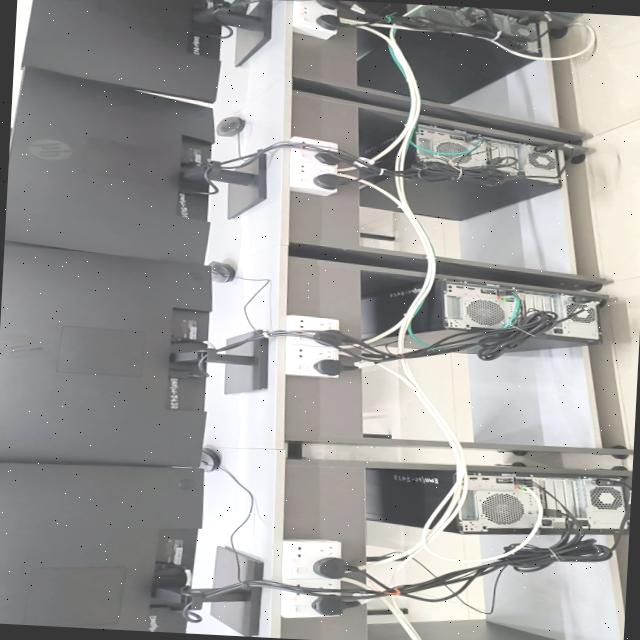Cpu: (352, 120, 564, 221), (353, 278, 602, 356), (354, 3, 544, 105), (365, 469, 631, 534)
Monitor: (0, 242, 266, 466), (4, 68, 265, 262), (0, 463, 272, 637), (22, 0, 270, 103)
Mouse: (215, 117, 244, 136), (208, 261, 233, 282), (199, 447, 219, 472), (226, 0, 247, 13)
